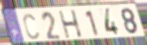1: (84, 9, 99, 37)
2: (41, 10, 64, 40)
4: (104, 7, 121, 38)
8: (120, 7, 139, 35)
C: (22, 13, 41, 41)
H: (58, 9, 84, 40)
